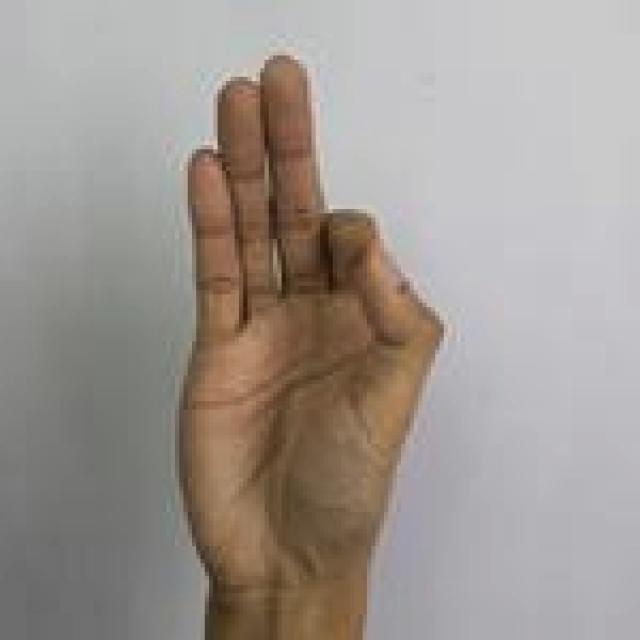F: (176, 49, 443, 640)
